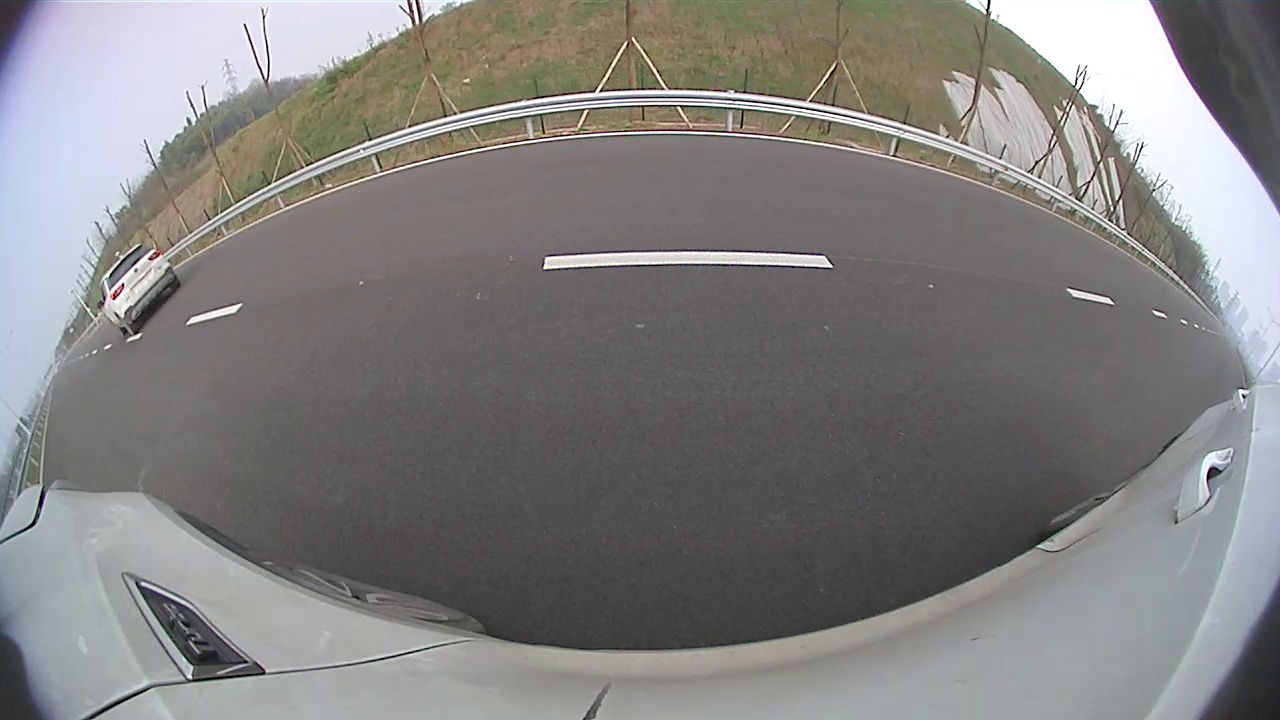car: (100, 243, 181, 335)
